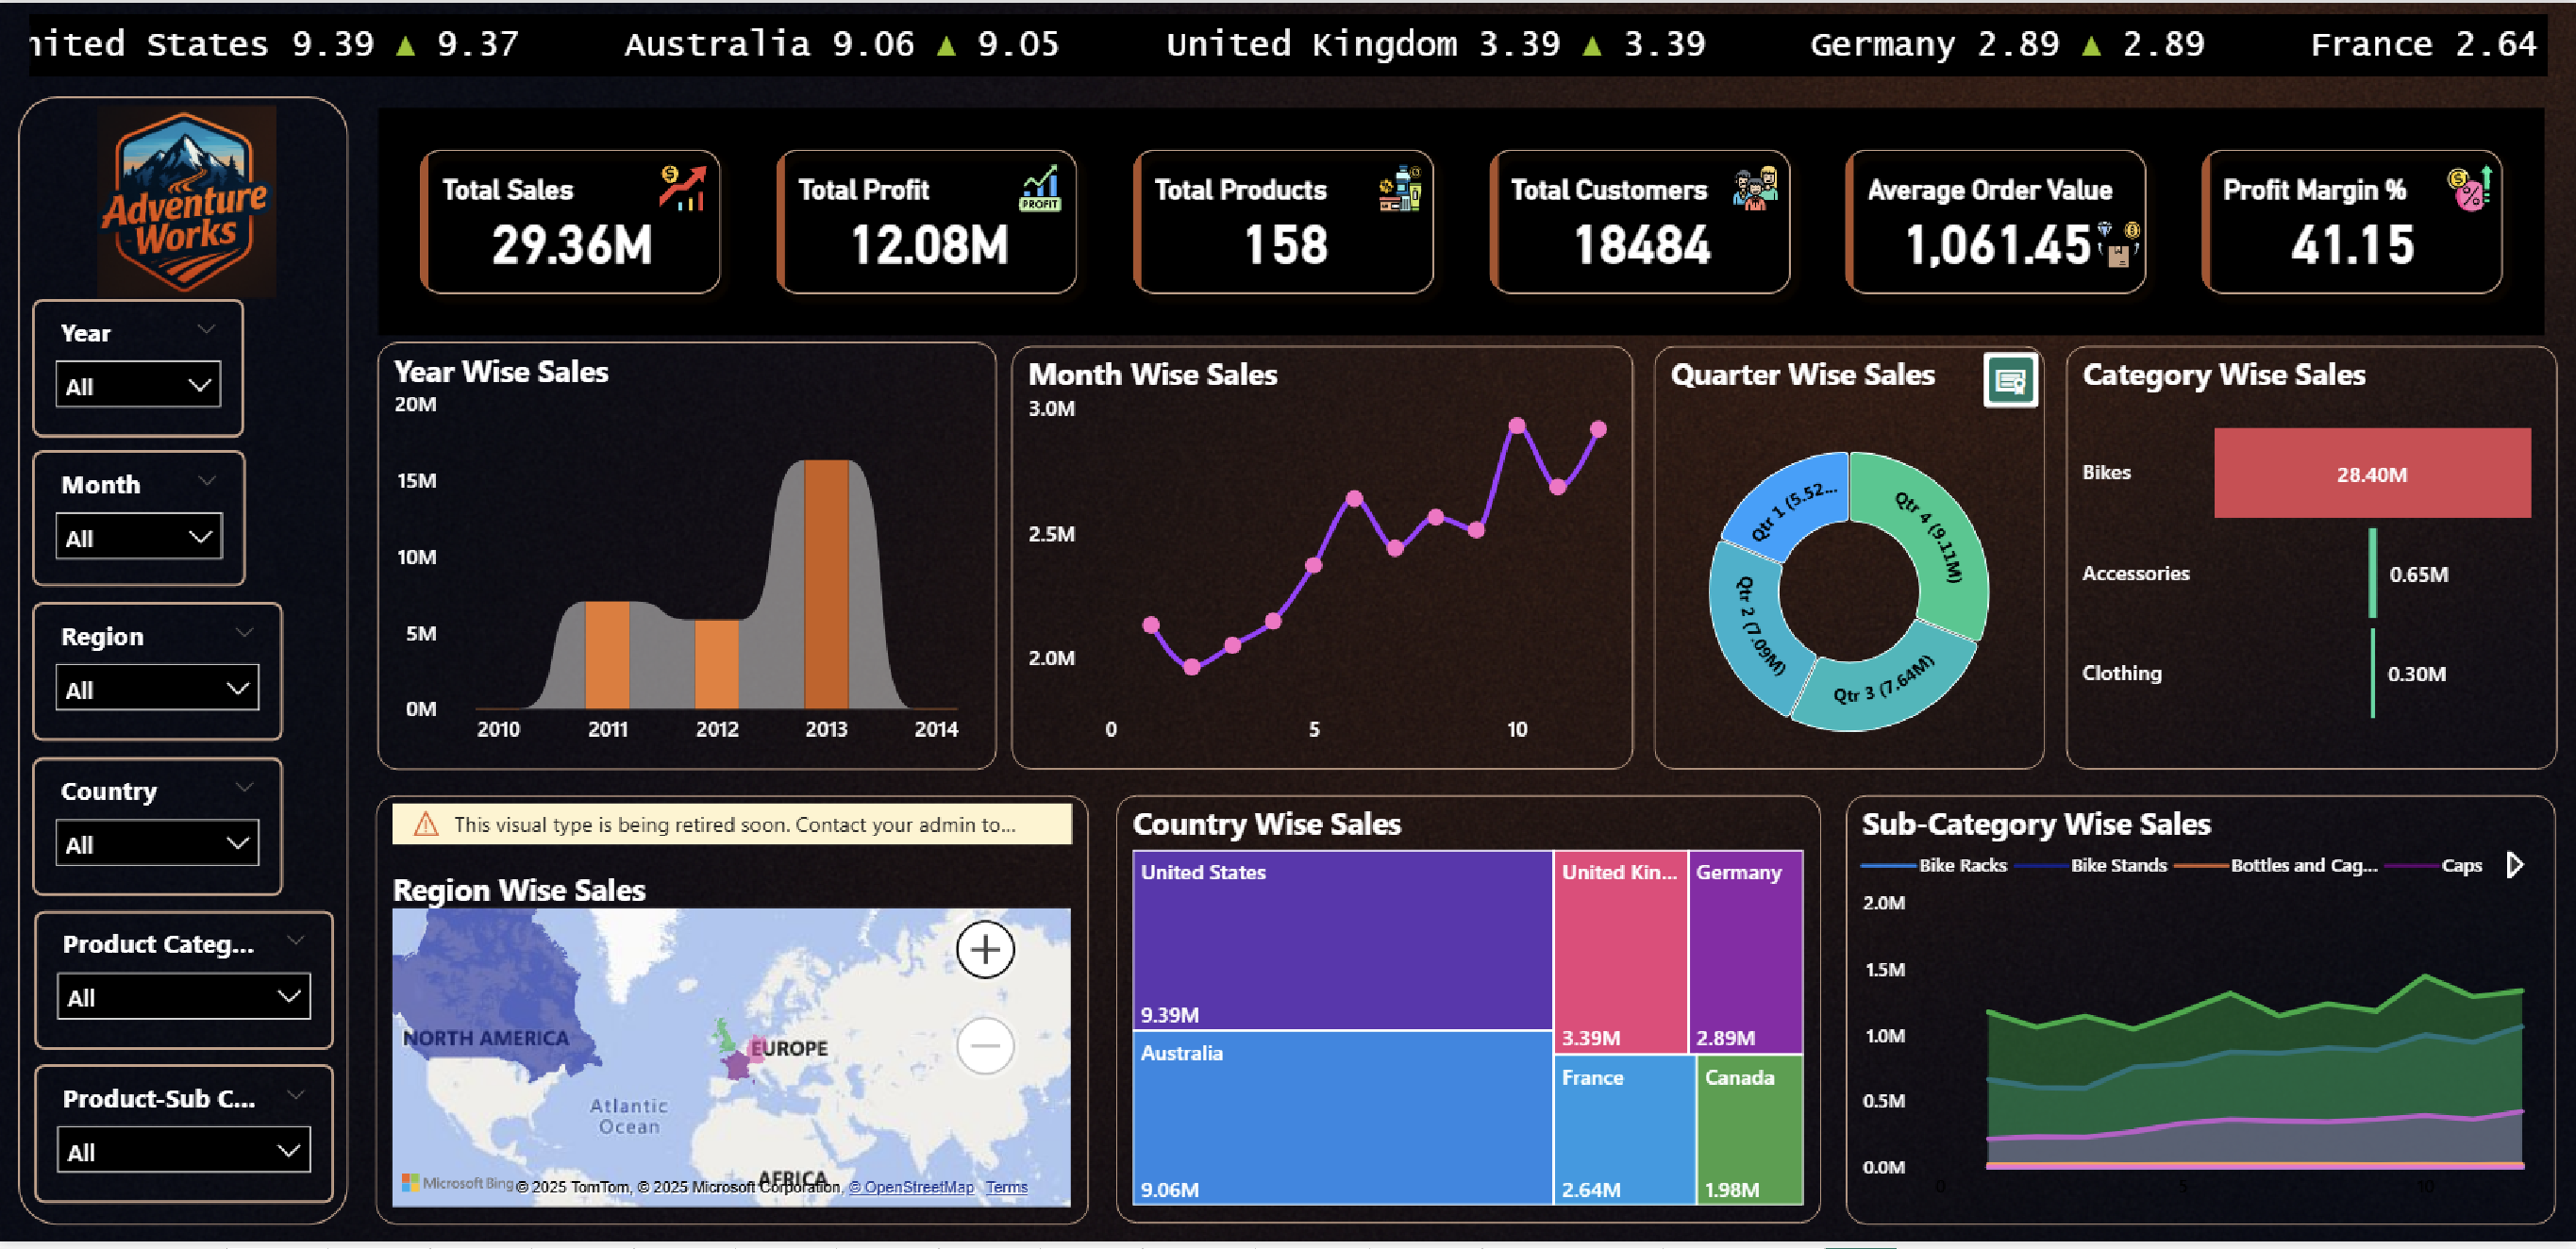

Layout of this report page (visuals, bound fields, positions):
{"tool":"tableau","page":{"name":"Dashboard","canvas":[1000,1000],"units":"permille","ordinal":0},"visuals":[{"type":"text","box":[4.8,11.8,989.7,57.3]},{"type":"image","param":"Image/ChatGPT Image Nov 29, 2025, 06_23_58 PM.png","box":[4.8,67.5,108,155.7]},{"type":"worksheet","title":"Q8","mark":"Bar","rows":["Calculation_5020658167025677"],"cols":["SalesAmount"],"box":[116.5,67.5,309,311.3]},{"type":"worksheet","title":"KPI","mark":"Automatic","box":[430.5,67.5,109.6,88.1]},{"type":"worksheet","title":"KPI (2)","mark":"Automatic","box":[544.1,67.5,109.6,88.1]},{"type":"worksheet","title":"KPI (3)","mark":"Automatic","box":[657.7,67.5,109.6,88.1]},{"type":"worksheet","title":"KPI (4)","mark":"Automatic","box":[771.2,67.5,109.6,88.1]},{"type":"worksheet","title":"KPI (5)","mark":"Automatic","box":[885.1,67.5,105.4,88.1]},{"type":"worksheet","title":"CWS","mark":"Automatic","box":[430.3,161.5,330.4,337.7]},{"type":"worksheet","title":"Q12 (3)","mark":"Pie","rows":["Calculation_2308231848927235","Calculation_2308231848927235"],"box":[765.5,161.5,221.9,337.7]},{"type":"text","box":[12.6,221.7,76.6,64.6]},{"type":"dashboard-object","box":[90.8,235,19.7,35.2]},{"type":"filter","title":"Q8","param":"[federated.1wsct3t0o1zjqs16q72st14u9fwu].[none:Calculation_5020658167025677:nk]","box":[11.1,286.3,103.8,208.5]},{"type":"worksheet","title":"Q9","mark":"Line","rows":["SalesAmount"],"cols":["Calculation_1539192481325056"],"box":[116.5,387.7,309,292.2]},{"type":"filter","title":"Q9","param":"[federated.1wsct3t0o1zjqs16q72st14u9fwu].[none:Calculation_5020658166235146:nk]","box":[11.1,494.9,103.8,114.5]},{"type":"worksheet","title":"Q12 (6)","mark":"Square","rows":["Calculation_1539192513744899"],"box":[435.3,505.1,141.4,235]},{"type":"worksheet","title":"S-CWS","mark":"Automatic","box":[587.2,505.1,401.7,475.8]},{"type":"filter","title":"Q10","param":"[federated.1wsct3t0o1zjqs16q72st14u9fwu].[none:Calculation_5020658163666953:nk]","box":[11.1,609.4,103.8,183.6]},{"type":"worksheet","title":"Q10","mark":"Pie","box":[116.5,688.7,309,287.8]},{"type":"worksheet","title":"Q12 (7)","mark":"Square","rows":["Calculation_1539192522903558"],"box":[430.5,744.5,151.7,233.5]},{"type":"filter","title":"CWS","param":"[federated.1wsct3t0o1zjqs16q72st14u9fwu].[none:SalesTerritoryCountry:nk]","box":[11.1,793,103.8,79.3]},{"type":"filter","title":"Q12 (3)","param":"[federated.1wsct3t0o1zjqs16q72st14u9fwu].[none:SalesTerritoryRegion:nk]","box":[11.1,872.3,103.8,80.8]}]}

Visuals, with their boxes on the dashboard's canvas, which has no fixed pixel size, in thousandths of its width and height (x1, y1, x2, y2). These are canvas units, not pixel positions in the 2576x1249 screenshot, which may show the page scaled, cropped or inside an application window:
text: box=[5, 12, 994, 69]
image: box=[5, 68, 113, 223]
"Q8" worksheet (Bar marks): box=[116, 68, 426, 379]
"KPI" worksheet: box=[430, 68, 540, 156]
"KPI (2)" worksheet: box=[544, 68, 654, 156]
"KPI (3)" worksheet: box=[658, 68, 767, 156]
"KPI (4)" worksheet: box=[771, 68, 881, 156]
"KPI (5)" worksheet: box=[885, 68, 990, 156]
"CWS" worksheet: box=[430, 162, 761, 499]
"Q12 (3)" worksheet (Pie marks): box=[766, 162, 987, 499]
text: box=[13, 222, 89, 286]
dashboard-object: box=[91, 235, 110, 270]
"Q8" filter: box=[11, 286, 115, 495]
"Q9" worksheet (Line marks): box=[116, 388, 426, 680]
"Q9" filter: box=[11, 495, 115, 609]
"Q12 (6)" worksheet (Square marks): box=[435, 505, 577, 740]
"S-CWS" worksheet: box=[587, 505, 989, 981]
"Q10" filter: box=[11, 609, 115, 793]
"Q10" worksheet (Pie marks): box=[116, 689, 426, 976]
"Q12 (7)" worksheet (Square marks): box=[430, 744, 582, 978]
"CWS" filter: box=[11, 793, 115, 872]
"Q12 (3)" filter: box=[11, 872, 115, 953]
